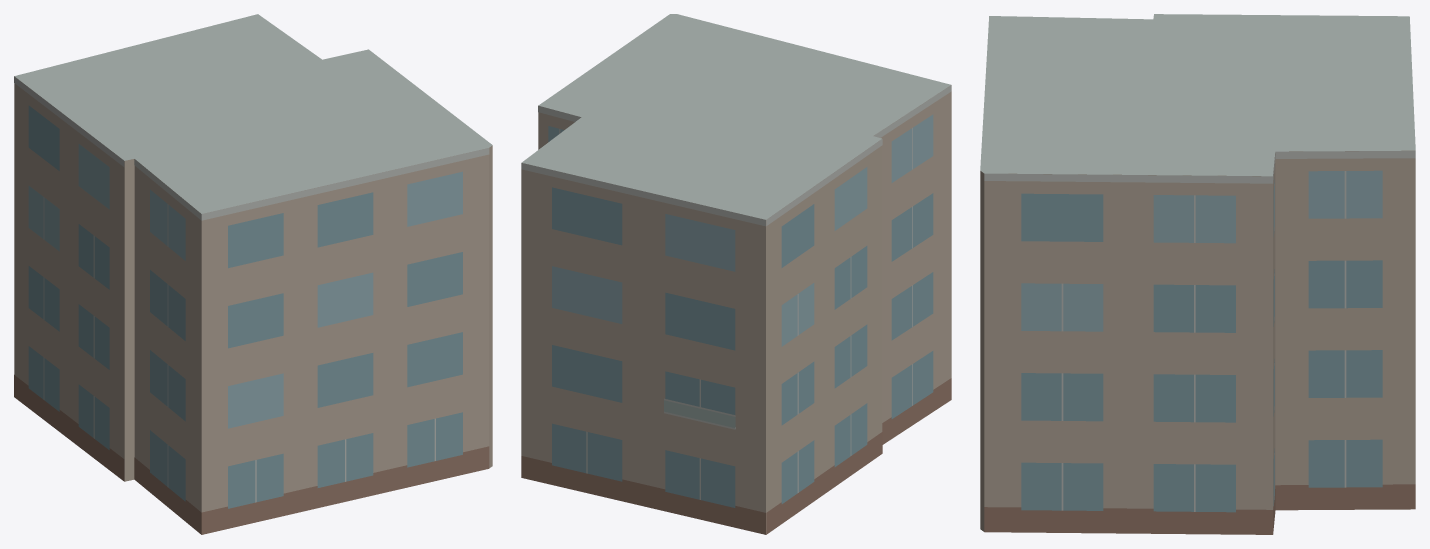
The model's file is survey-upis-32921882.glb.
The picture shows the model from 3 angles, left to right: view 1: azimuth 30°, elevation 25°; view 2: azimuth 150°, elevation 25°; view 3: azimuth 270°, elevation 25°; orthographic projection. The views are drawn at different scales.
Parts seen in each view (by area): view 1: survey-upis-32921882.tmp; view 2: survey-upis-32921882.tmp; view 3: survey-upis-32921882.tmp.
Boxes of the visible parts, x1,y1,x2,y2 form: survey-upis-32921882.tmp: [14, 14, 492, 534]; survey-upis-32921882.tmp: [521, 14, 951, 534]; survey-upis-32921882.tmp: [980, 14, 1415, 534].
Bounding box in the file's own units: 11.36 × 11.7 × 12.89.
